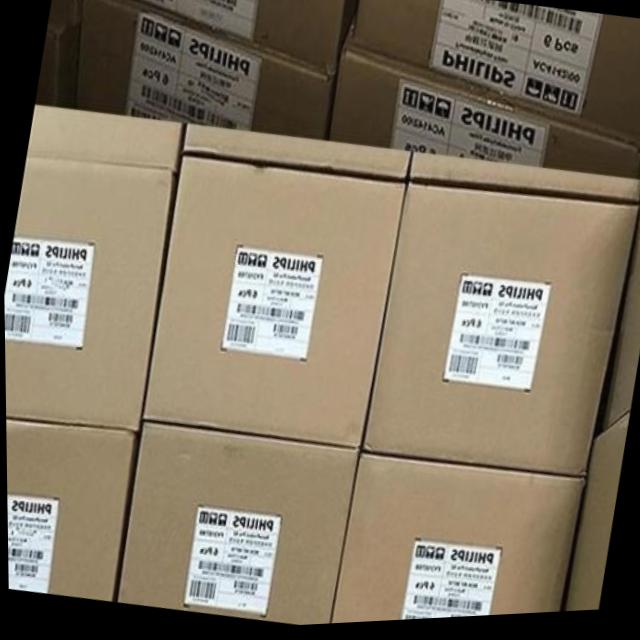box: (360, 154, 640, 482), (142, 125, 410, 451), (3, 103, 187, 433), (327, 27, 640, 188), (115, 424, 357, 628), (327, 456, 583, 627), (353, 0, 640, 139), (75, 0, 334, 143), (5, 418, 135, 602), (113, 0, 343, 85), (561, 419, 628, 617), (602, 212, 640, 437)
